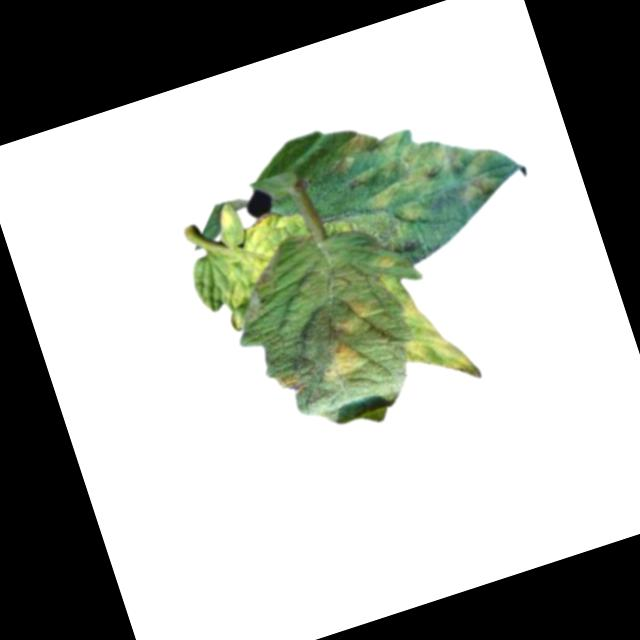Leaf_Mold: (307, 86, 531, 263), (199, 201, 332, 330), (376, 253, 482, 398), (312, 335, 371, 390), (324, 295, 375, 338), (274, 365, 309, 398)
